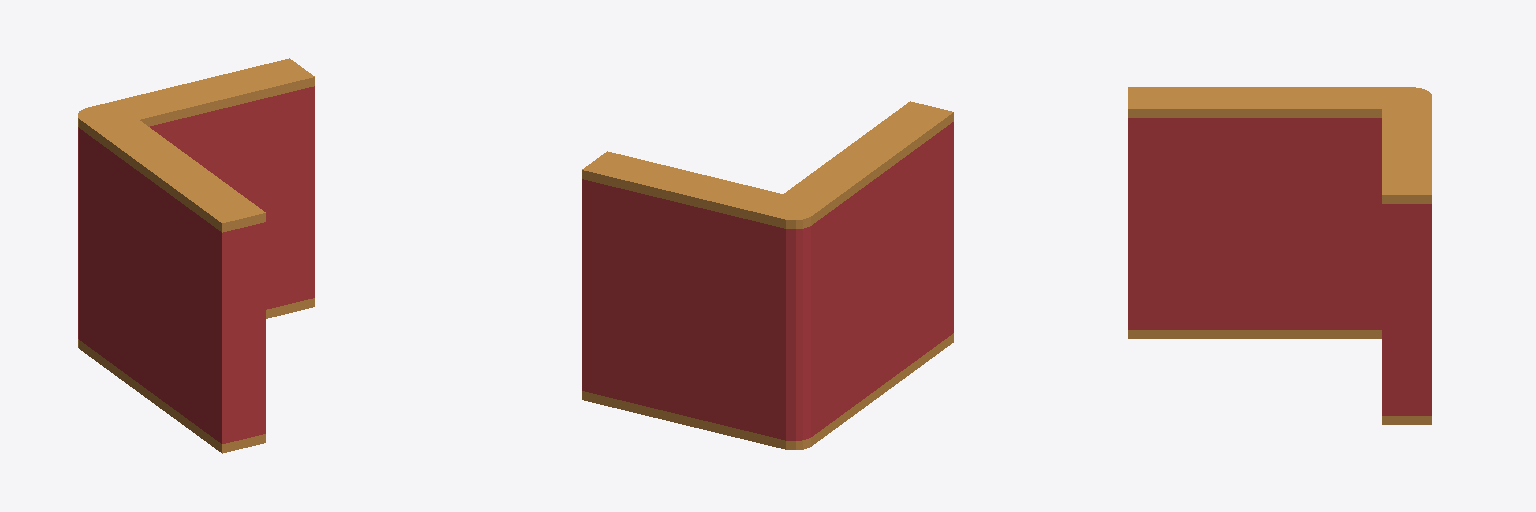
The model's file is anglewall_right(middle).obj.
The picture shows the model from 3 angles: view 1: azimuth 30°, elevation 25°; view 2: azimuth 150°, elevation 25°; view 3: azimuth 270°, elevation 25°; orthographic projection.
Parts seen in each view (by area): view 1: anglewall_right(middle); view 2: anglewall_right(middle); view 3: anglewall_right(middle).
Boxes of the visible parts, x1,y1,x2,y2 form: anglewall_right(middle): [78, 58, 314, 453]; anglewall_right(middle): [582, 101, 953, 449]; anglewall_right(middle): [1128, 87, 1431, 424].
Bounding box in the file's own units: 1 × 1 × 1.2.